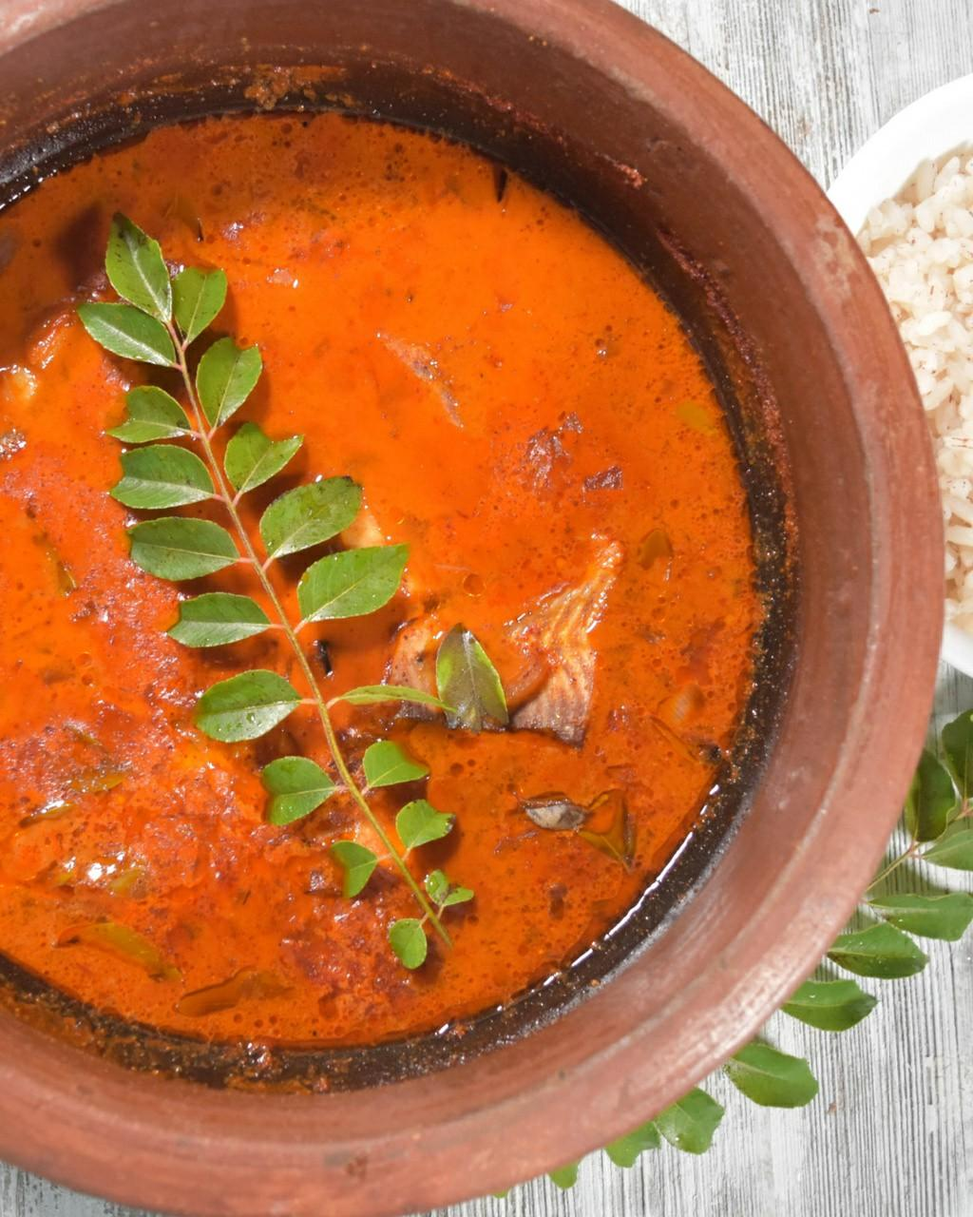FishCurry: (0, 107, 762, 1049)
